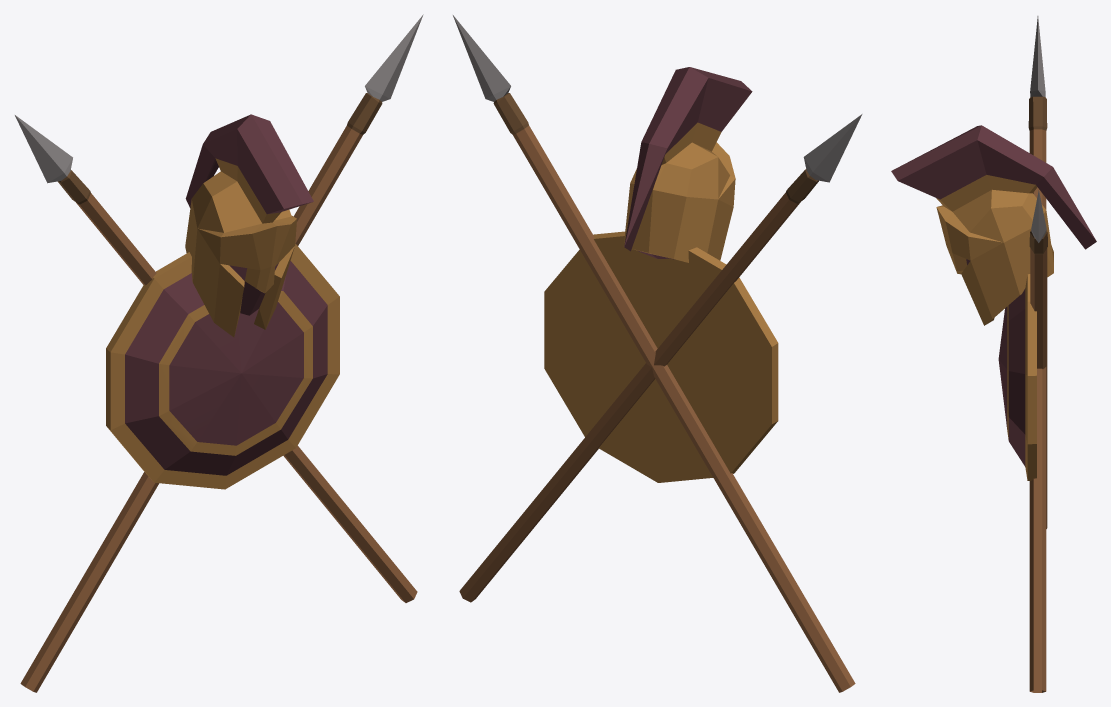
File: SM_Symbol_Spartan_Empire.fbx
The picture shows the model from 3 angles, left to right: view 1: azimuth 30°, elevation 25°; view 2: azimuth 150°, elevation 25°; view 3: azimuth 270°, elevation 25°; orthographic projection. The views are drawn at different scales.
Visible parts, largest first — view 1: SM_Spartan_Symbol_Empire; view 2: SM_Spartan_Symbol_Empire; view 3: SM_Spartan_Symbol_Empire.
Part boxes in pixels (bbox=[...]): SM_Spartan_Symbol_Empire: bbox=[15, 14, 423, 692]; SM_Spartan_Symbol_Empire: bbox=[453, 15, 862, 692]; SM_Spartan_Symbol_Empire: bbox=[891, 16, 1096, 692].
Size of the model in its own units: 1.66 by 2.25 by 0.8201.
